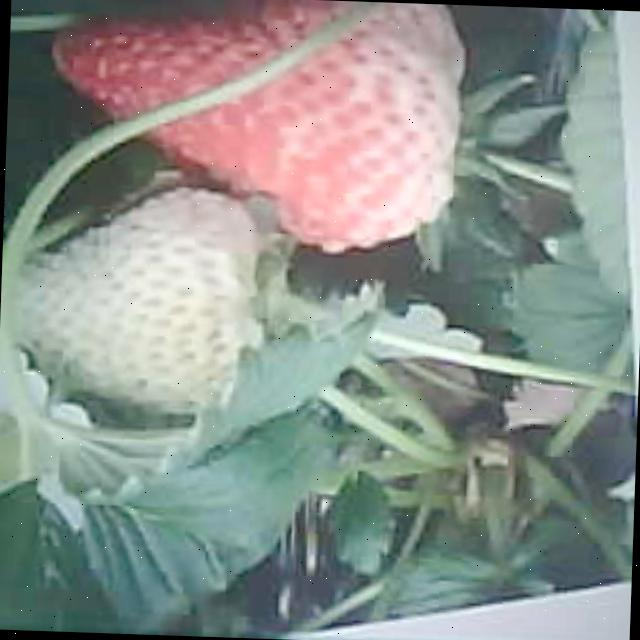strawberry: (45, 0, 468, 261), (13, 182, 260, 418)
